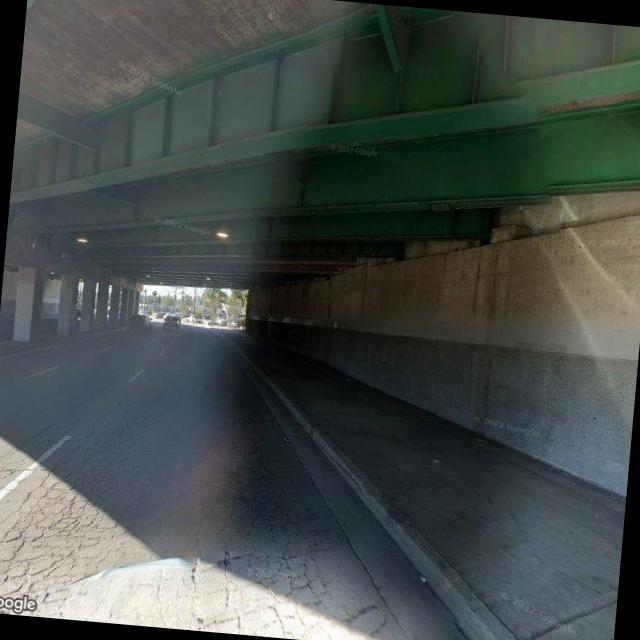crack: (180, 399, 406, 640), (0, 399, 154, 624)
